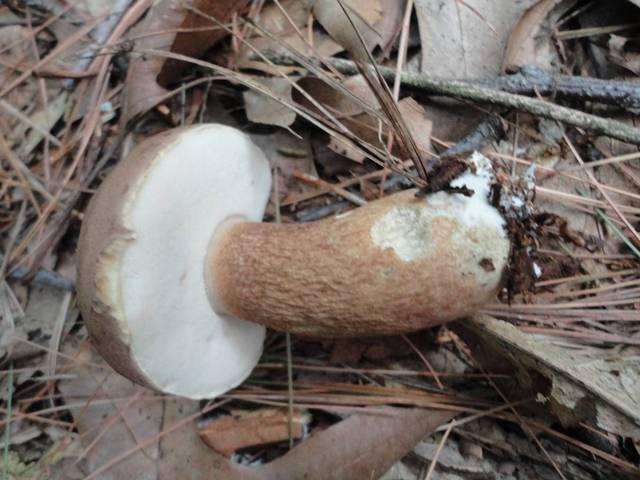poisonous_mushroom: (73, 121, 520, 396)
